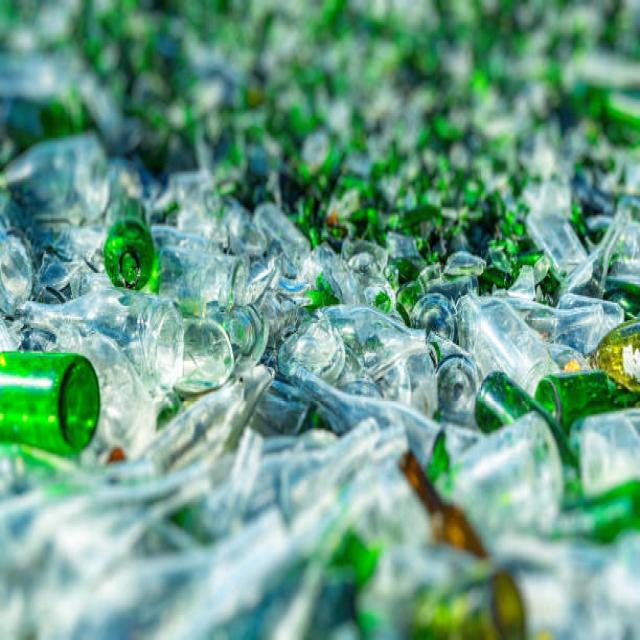glass: (139, 212, 540, 461)
